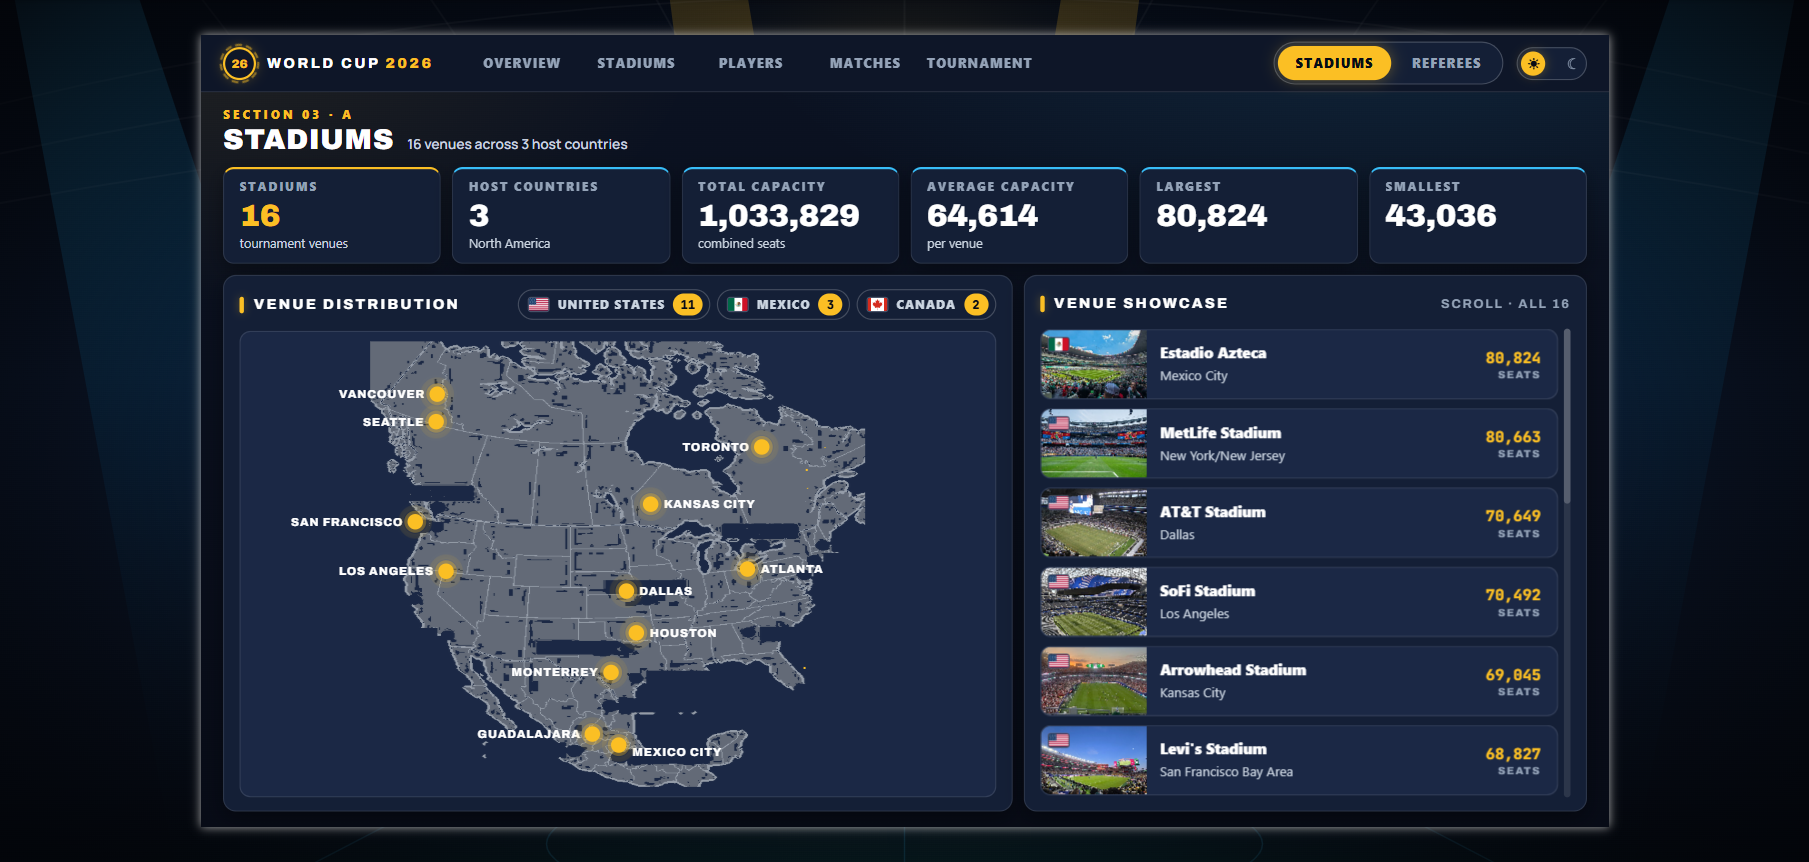

Layout of this report page (visuals, bound fields, positions):
{"tool":"powerbi","page":{"name":"Stadiums & Referees Page","canvas":[1280,720],"ordinal":2},"visuals":[{"type":"htmlContent443BE3AD55E043BF878BED274D3A6855","fields":{"content":["HTML Visuals.Stadiums_Referees_Page"]},"box":[0,0,1280,720],"z":0},{"type":"actionButton","title":"Tournament","box":[656,0,104,51],"z":1},{"type":"actionButton","title":"Matches","box":[552,0,104,51],"z":2},{"type":"actionButton","title":"Players","box":[448,0,104,51],"z":3},{"type":"actionButton","title":"Overview","box":[240,0,104,51],"z":5}]}

Visuals, with their boxes on the page's 1280x720 design canvas (x1, y1, x2, y2). These are canvas units, not pixel positions in the 1809x862 screenshot, which may show the page scaled, cropped or inside an application window:
htmlContent443BE3AD55E043BF878BED274D3A6855 - HTML Visuals.Stadiums_Referees_Page: BBox(0, 0, 1280, 720)
"Tournament" actionButton: BBox(656, 0, 760, 51)
"Matches" actionButton: BBox(552, 0, 656, 51)
"Players" actionButton: BBox(448, 0, 552, 51)
"Overview" actionButton: BBox(240, 0, 344, 51)
